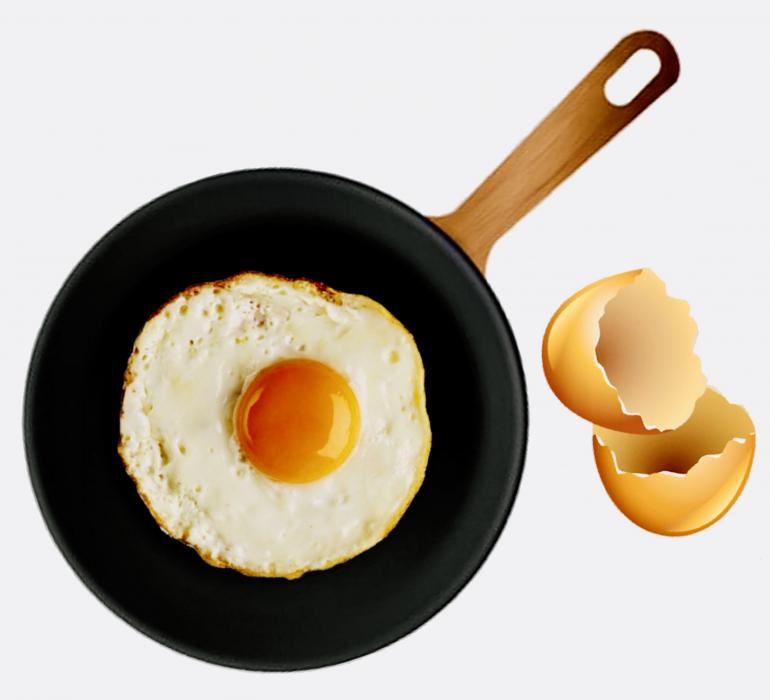Telur: (99, 284, 438, 584)
